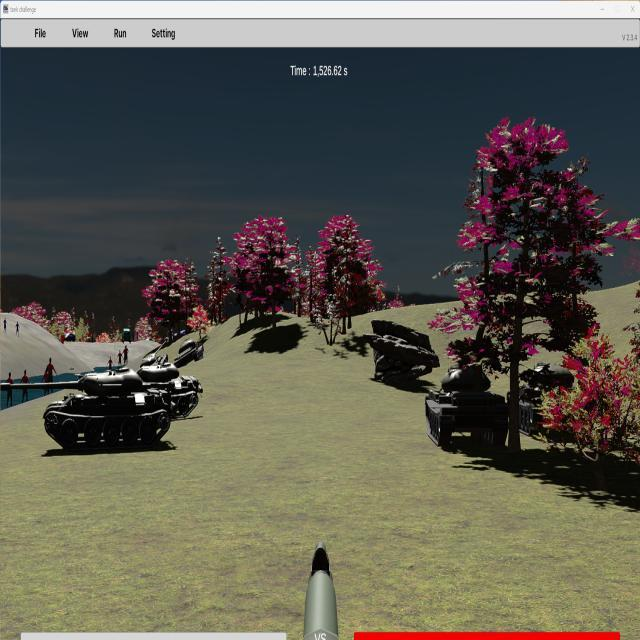Tank: (0, 368, 171, 451), (425, 363, 510, 452), (120, 362, 204, 420), (175, 331, 208, 367)
